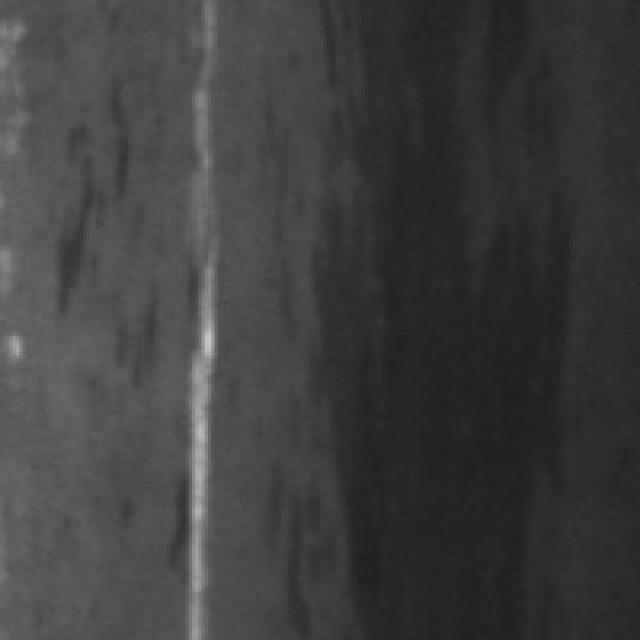inclusion: (304, 0, 557, 627), (45, 74, 141, 320)
scratches: (170, 45, 224, 630)
